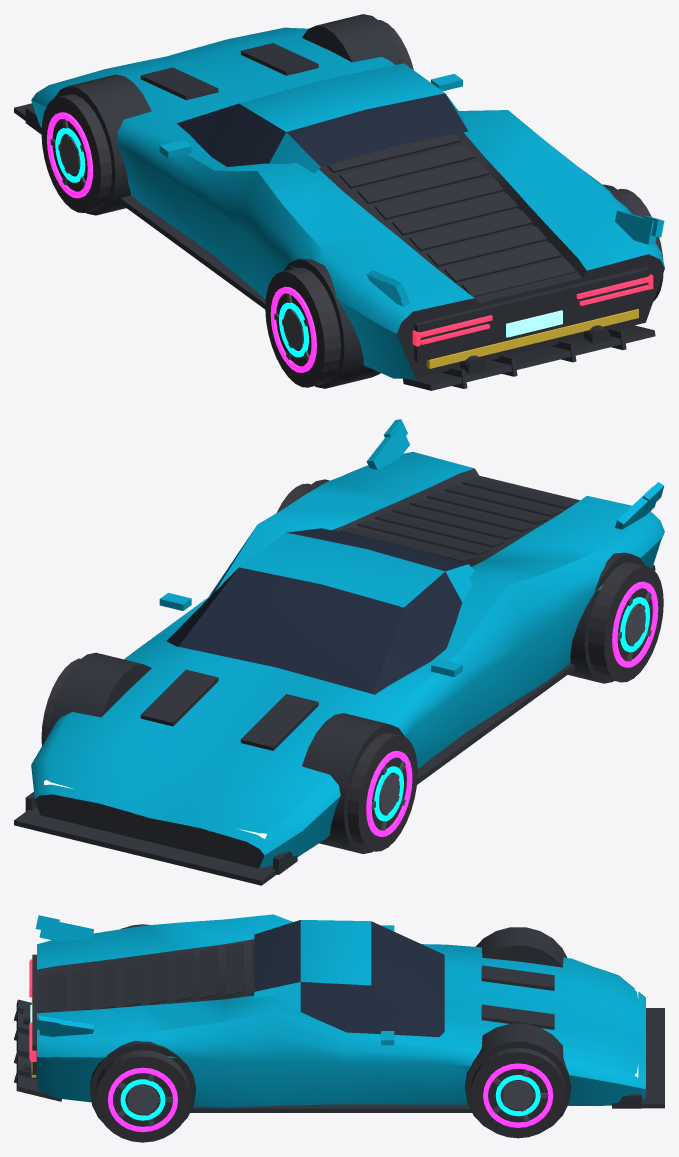
File: sports_car.glb
3 views of the same model, one above another, from view 1: azimuth 30°, elevation 25°; view 2: azimuth 150°, elevation 25°; view 3: azimuth 270°, elevation 25° (orthographic). The views are drawn at different scales.
Parts seen in each view (by area): view 1: Player_Vehicle_Car, Cockpit_Canopy, Aero_Rear_Louvers, Tire_RL, Tire_FL, Aero_Rear_Diffuser, LED_Taillight_Bar, Rim_FL_Neon_Accents, Rim_RL_Neon_Accents, Aero_Twin_Winglets, Rim_FL, Rim_RL; view 2: Player_Vehicle_Car, Cockpit_Canopy, Aero_Rear_Louvers, Aero_Front_Splitter, Tire_RL, Tire_FL, Aero_Twin_Winglets, Rim_RL_Neon_Accents, Rim_FL_Neon_Accents, Rim_FL, Rim_RL, Tire_FR; view 3: Player_Vehicle_Car, Cockpit_Canopy, Aero_Rear_Louvers, Tire_RR, Tire_FR, Aero_Front_Splitter, Aero_Twin_Winglets, Rim_RR_Neon_Accents, Rim_FR_Neon_Accents, Aero_Rear_Diffuser, Rim_RR, Rim_FR (+1 smaller).
Boxes of the visible parts, left/top/right/bottom form: Player_Vehicle_Car: left=31, top=14, right=664, bottom=388; Cockpit_Canopy: left=177, top=63, right=470, bottom=173; Aero_Rear_Louvers: left=327, top=134, right=575, bottom=296; Tire_RL: left=265, top=267, right=340, bottom=387; Tire_FL: left=41, top=94, right=111, bottom=212; Aero_Rear_Diffuser: left=403, top=325, right=655, bottom=390; LED_Taillight_Bar: left=412, top=274, right=653, bottom=346; Rim_FL_Neon_Accents: left=47, top=112, right=93, bottom=198; Rim_RL_Neon_Accents: left=270, top=286, right=316, bottom=372; Aero_Twin_Winglets: left=366, top=210, right=664, bottom=306; Rim_FL: left=50, top=119, right=85, bottom=187; Rim_RL: left=274, top=293, right=309, bottom=362; Player_Vehicle_Car: left=31, top=452, right=664, bottom=868; Cockpit_Canopy: left=166, top=528, right=474, bottom=694; Aero_Rear_Louvers: left=340, top=478, right=575, bottom=562; Aero_Front_Splitter: left=14, top=792, right=297, bottom=885; Tire_RL: left=588, top=562, right=663, bottom=682; Tire_FL: left=347, top=733, right=417, bottom=851; Aero_Twin_Winglets: left=366, top=419, right=664, bottom=529; Rim_RL_Neon_Accents: left=612, top=581, right=658, bottom=667; Rim_FL_Neon_Accents: left=366, top=751, right=412, bottom=836; Rim_FL: left=371, top=761, right=405, bottom=830; Rim_RL: left=617, top=592, right=651, bottom=661; Tire_FR: left=41, top=658, right=80, bottom=745; Player_Vehicle_Car: left=23, top=914, right=645, bottom=1128; Cockpit_Canopy: left=254, top=920, right=444, bottom=1037; Aero_Rear_Louvers: left=47, top=942, right=254, bottom=1012; Tire_RR: left=95, top=1050, right=190, bottom=1142; Tire_FR: left=470, top=1047, right=565, bottom=1138; Aero_Front_Splitter: left=612, top=1008, right=664, bottom=1108; Aero_Twin_Winglets: left=35, top=915, right=93, bottom=1036; Rim_RR_Neon_Accents: left=108, top=1067, right=177, bottom=1132; Rim_FR_Neon_Accents: left=483, top=1063, right=553, bottom=1127; Aero_Rear_Diffuser: left=14, top=999, right=61, bottom=1101; Rim_RR: left=117, top=1074, right=172, bottom=1126; Rim_FR: left=492, top=1069, right=547, bottom=1122.
Size of the model in its own units: 2.33 by 1.07 by 4.79.
